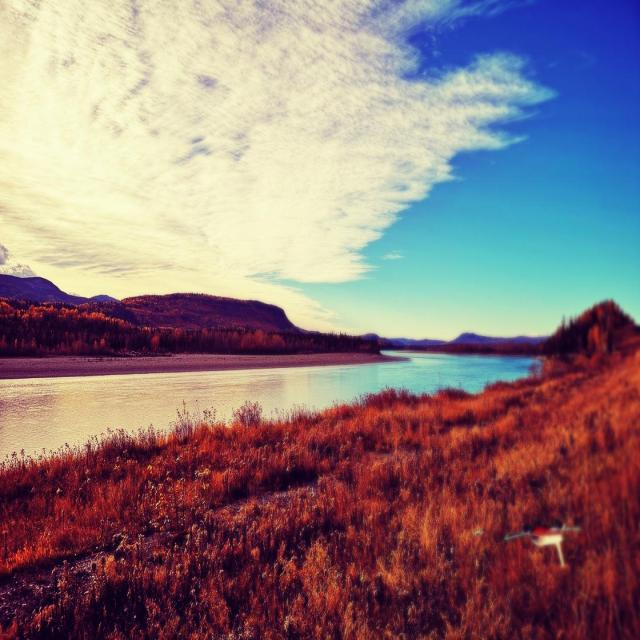airplane: (502, 518, 582, 568)
